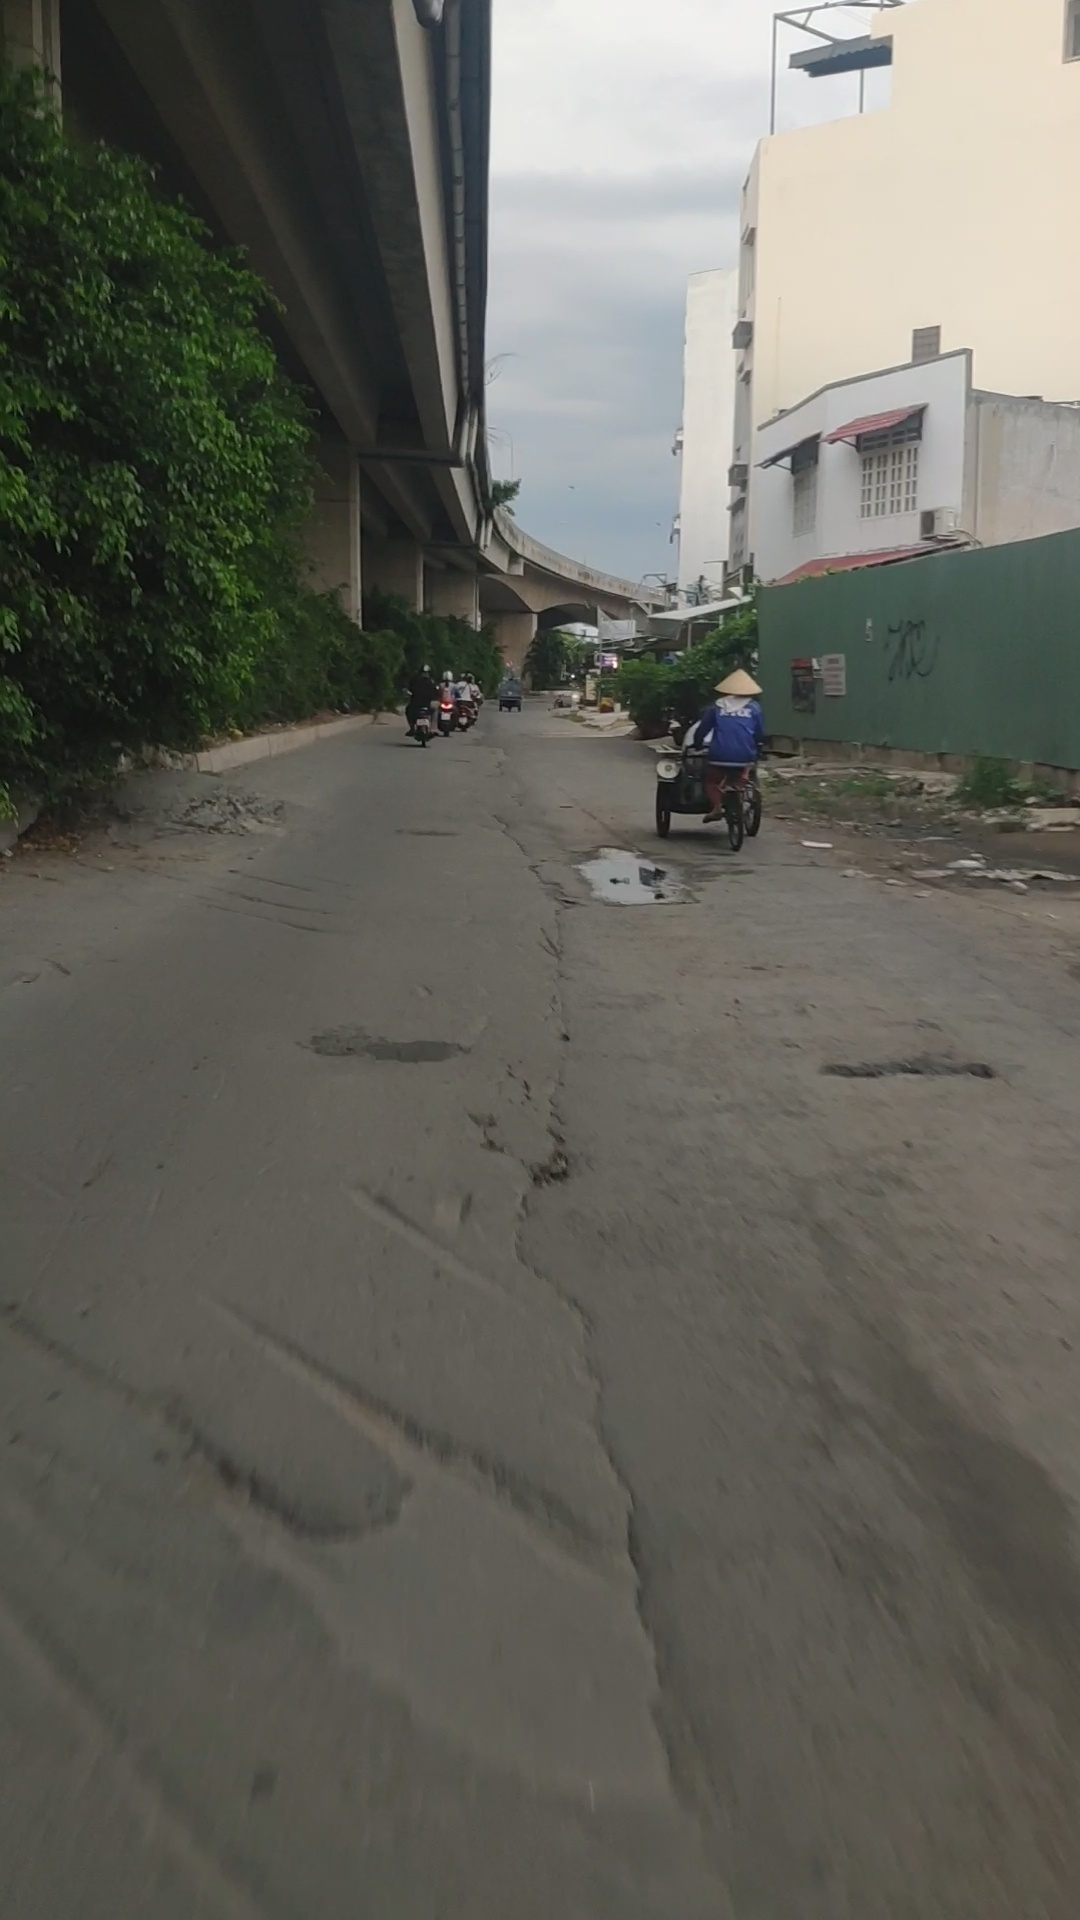hole: (233, 1350, 682, 1791), (563, 836, 694, 913), (524, 1077, 582, 1191), (811, 1054, 1009, 1087)
